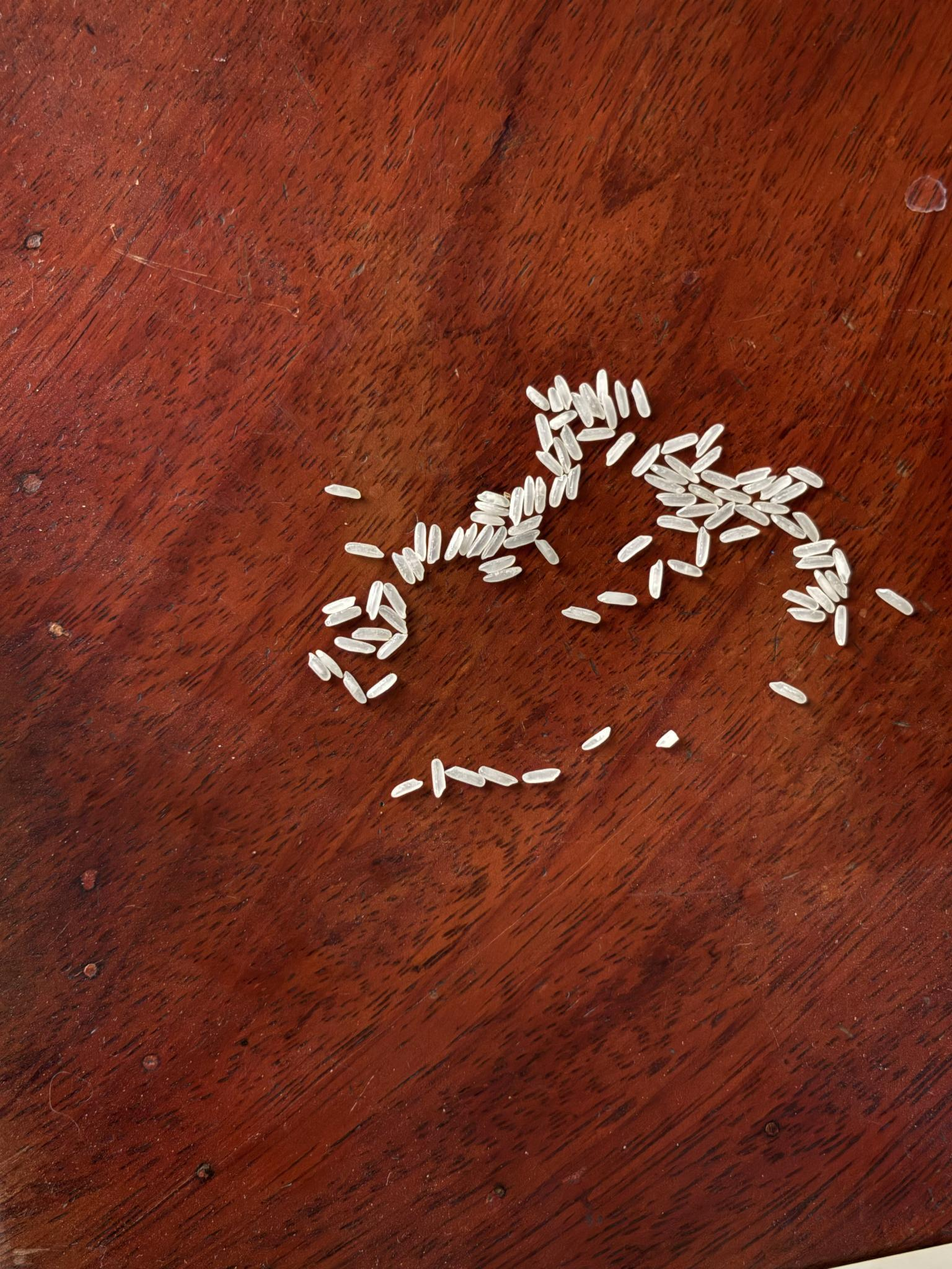Rice-th-y-nh: (695, 424, 724, 457), (665, 455, 699, 483), (606, 434, 635, 466), (632, 444, 661, 476), (876, 589, 913, 614), (580, 383, 605, 420), (618, 536, 652, 562), (468, 525, 494, 557), (771, 514, 804, 539), (705, 502, 735, 529), (691, 447, 722, 473), (482, 527, 507, 559), (814, 570, 839, 602), (379, 606, 407, 634), (377, 633, 407, 659), (794, 512, 820, 542), (446, 766, 485, 786), (807, 586, 835, 613), (652, 464, 688, 485), (316, 649, 342, 678), (384, 583, 406, 617), (561, 425, 583, 459), (788, 466, 822, 488), (572, 393, 594, 427), (793, 539, 834, 557), (343, 672, 366, 704), (392, 552, 415, 584), (772, 483, 807, 504), (479, 767, 517, 786), (367, 674, 397, 698), (770, 682, 806, 702), (645, 475, 685, 493), (735, 504, 769, 525), (689, 484, 723, 505), (403, 547, 424, 581), (761, 476, 792, 499), (325, 607, 362, 626), (783, 589, 818, 609), (662, 434, 698, 453), (536, 451, 563, 476), (582, 727, 611, 750), (632, 380, 650, 417), (695, 527, 712, 566), (509, 516, 542, 536), (658, 516, 699, 532), (535, 414, 553, 450), (701, 470, 736, 488), (720, 526, 759, 542), (479, 556, 515, 573), (833, 549, 851, 583), (553, 438, 571, 472), (445, 528, 464, 560), (535, 539, 559, 564), (505, 531, 540, 548), (308, 653, 330, 680), (335, 637, 374, 652), (346, 542, 385, 557), (668, 560, 702, 577), (391, 779, 423, 797), (826, 571, 848, 597), (562, 607, 600, 622), (413, 522, 428, 560), (427, 525, 442, 563), (555, 376, 572, 409), (460, 524, 478, 555), (715, 489, 752, 504), (431, 760, 446, 797), (677, 503, 716, 517), (657, 492, 696, 506), (598, 591, 637, 605), (325, 484, 361, 499), (367, 582, 382, 618), (483, 569, 521, 583), (510, 487, 524, 525), (796, 555, 834, 569), (527, 386, 549, 410), (478, 490, 509, 507), (736, 468, 771, 483), (615, 382, 630, 417), (649, 561, 663, 598), (523, 769, 560, 783), (323, 597, 355, 613), (470, 512, 504, 527), (352, 627, 391, 640), (789, 608, 825, 622), (550, 476, 566, 507), (602, 396, 617, 428), (755, 501, 789, 515), (550, 411, 576, 429), (577, 428, 613, 441), (835, 606, 847, 645), (743, 479, 773, 494), (568, 466, 580, 500), (536, 477, 547, 513), (524, 477, 534, 513), (596, 370, 608, 400), (656, 731, 678, 747), (475, 502, 504, 514), (548, 388, 562, 412)
